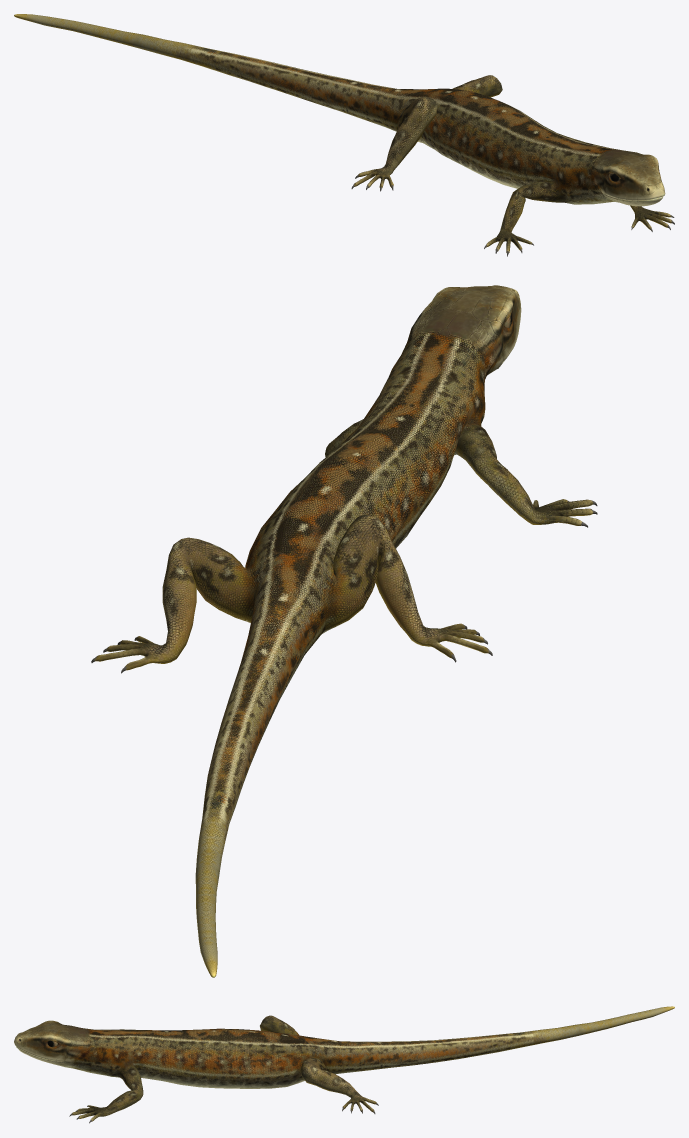
Rendered from Running429.obj.
The picture shows the model from 3 angles, top to bottom: view 1: azimuth 30°, elevation 25°; view 2: azimuth 150°, elevation 25°; view 3: azimuth 270°, elevation 25°; orthographic projection. The views are drawn at different scales.
Visible parts, largest first — view 1: Lizard; view 2: Lizard; view 3: Lizard.
Part boxes in pixels (x1,y1,x2,y2): Lizard: [14, 14, 674, 256]; Lizard: [91, 285, 597, 977]; Lizard: [14, 1006, 674, 1123].
Size of the model in its own units: 40.02 by 12.09 by 98.79.
